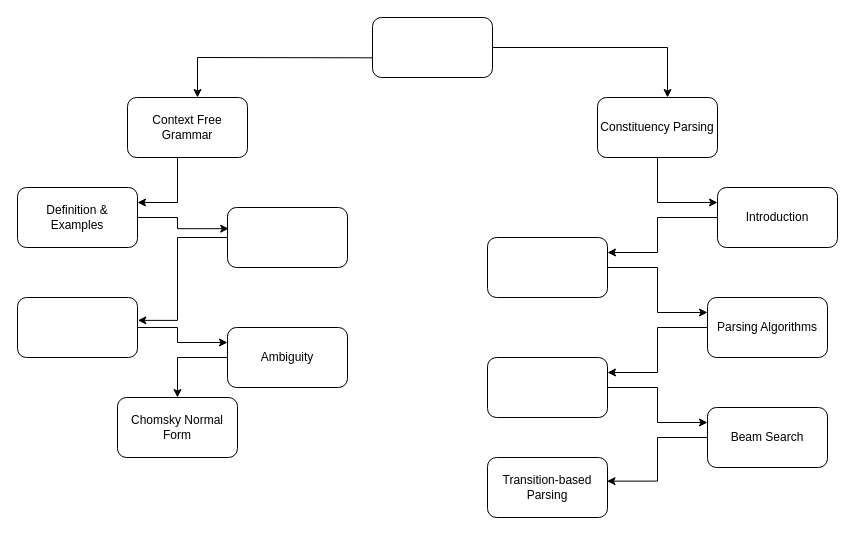
This 855x535 diagram has some shape labels left out. The shapes that lost their labels are listed below. From the top down, each one's box as (x1, y1, x2, y2) in pixels, then its label:
(372, 16, 492, 78): Natural Language Processing
(226, 206, 348, 268): Derivations
(486, 236, 608, 298): Greedy Heuristics
(16, 296, 138, 358): Parse Trees
(486, 356, 608, 418): Dynamic Programming
